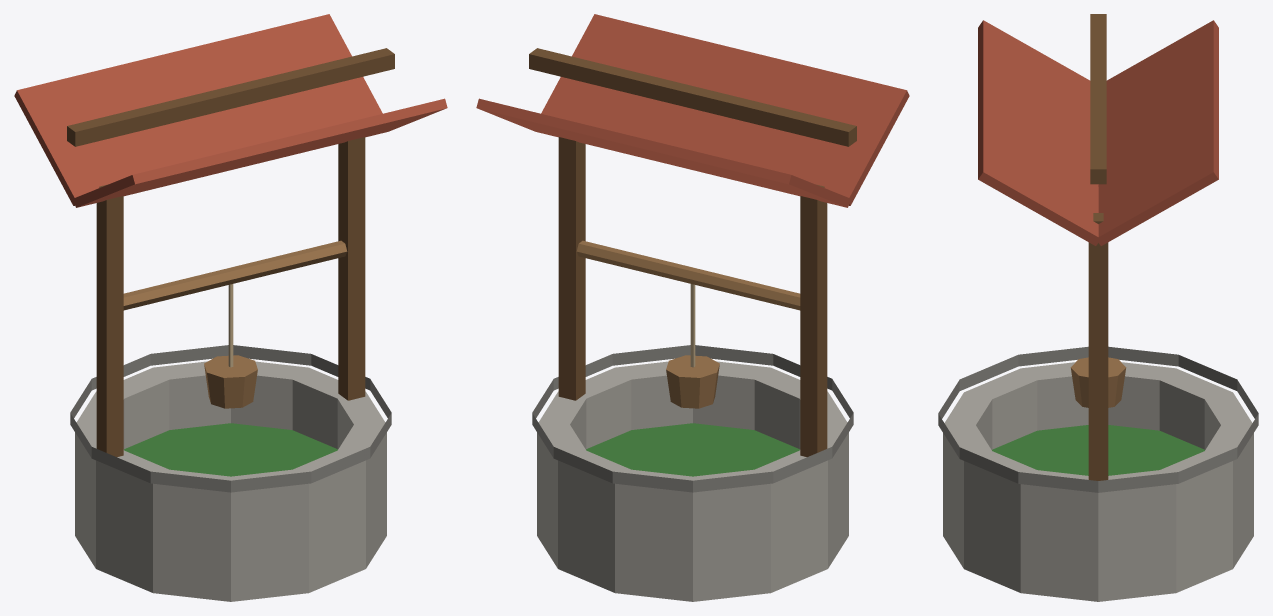
File: well.glb
The picture shows the model from 3 angles, left to right: view 1: azimuth 30°, elevation 25°; view 2: azimuth 150°, elevation 25°; view 3: azimuth 270°, elevation 25°; orthographic projection.
Visible parts, largest first — view 1: well; view 2: well; view 3: well.
Boxes of the visible parts, box(x1,y1,x2,y2) form: well: box(14, 14, 447, 601); well: box(476, 14, 909, 601); well: box(938, 14, 1258, 601).
Size of the model in its own units: 2.25 by 3 by 1.96.
